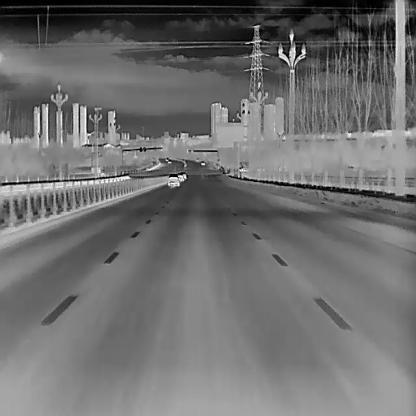car: (167, 172, 179, 187), (176, 172, 183, 181), (200, 158, 205, 165), (167, 157, 172, 162)
